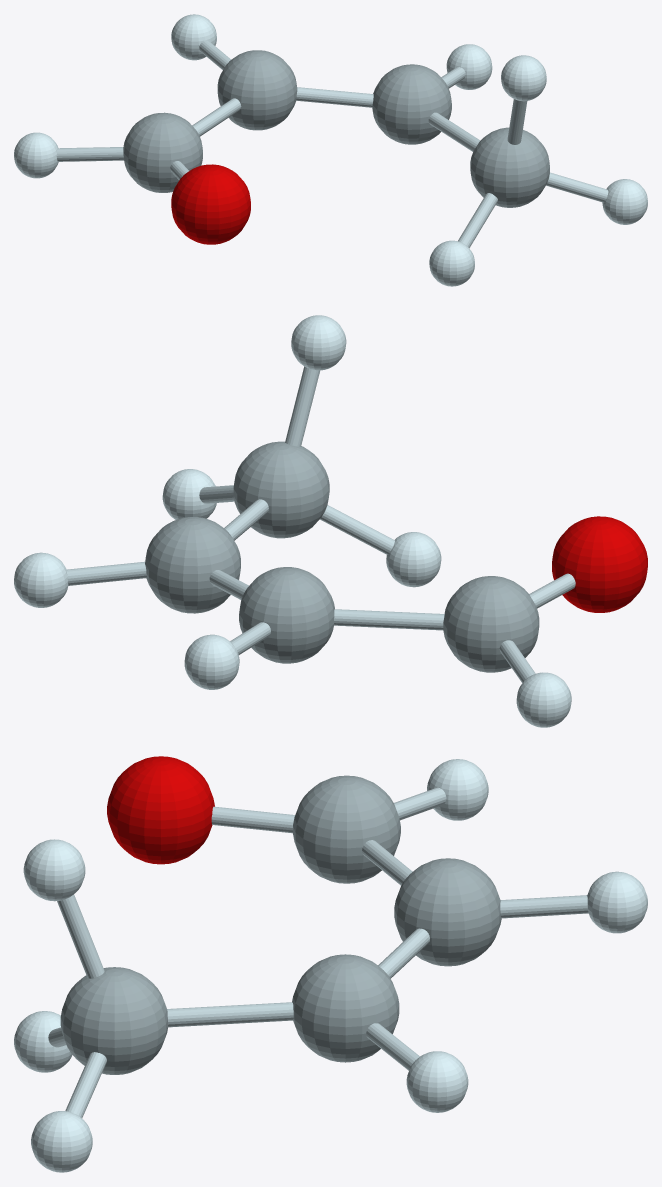
File: irc_018.glb
3 renders of one model, top to bottom at view 1: azimuth 30°, elevation 25°; view 2: azimuth 150°, elevation 25°; view 3: azimuth 270°, elevation 25°, orthographic. The views are drawn at different scales.
Visible parts, largest first — view 1: Renderer Node; view 2: Renderer Node; view 3: Renderer Node.
Boxes of the visible parts, box(x1,y1,x2,y2) form: Renderer Node: box(14, 14, 647, 286); Renderer Node: box(14, 315, 647, 727); Renderer Node: box(14, 756, 647, 1172).
Bounding box in the file's own units: 4.83 × 1.98 × 4.1.
